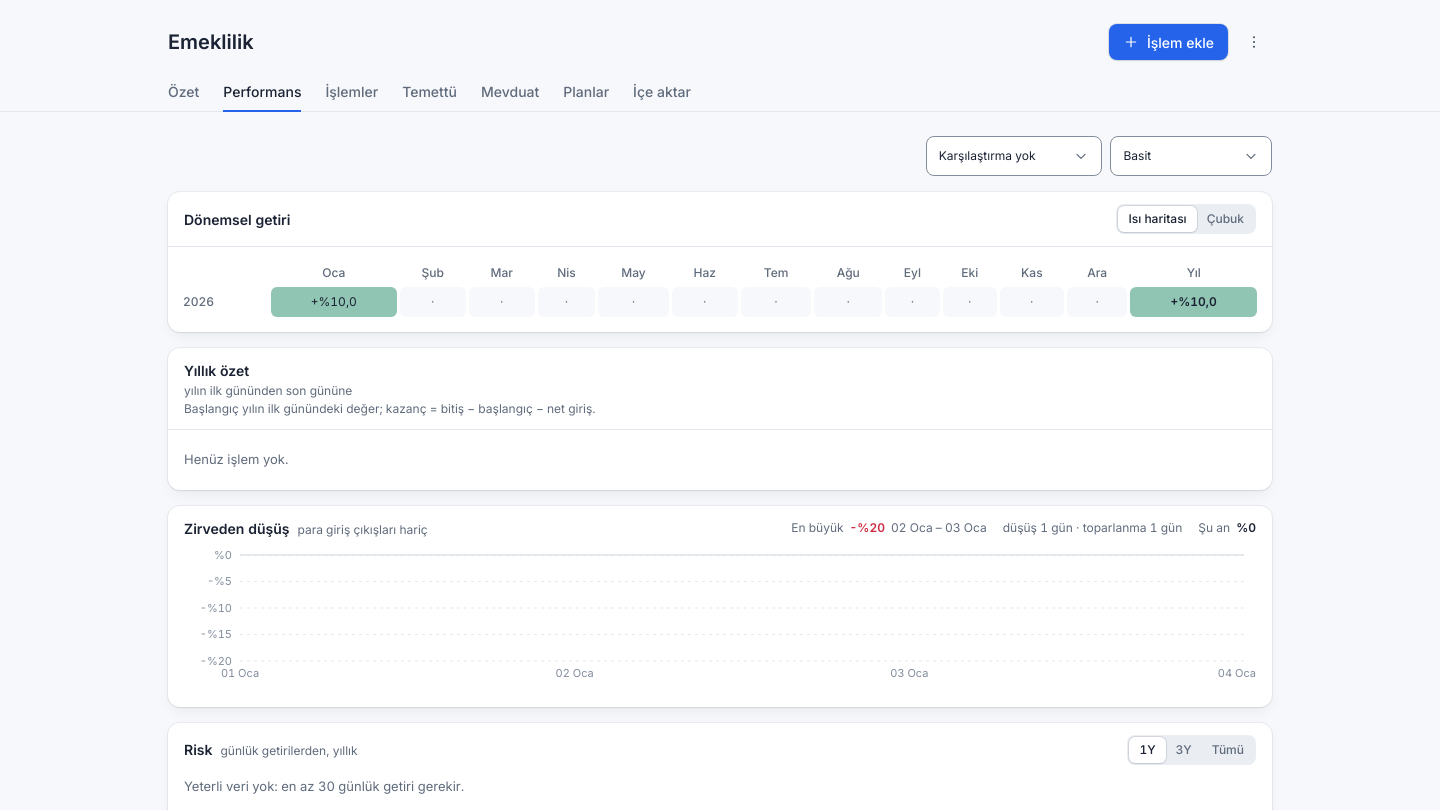
Scenario: shows the stored method and changes the numbers with it
Click the dropdown named "Getiri yöntemi": (1191, 156) [1110,136,1272,176]
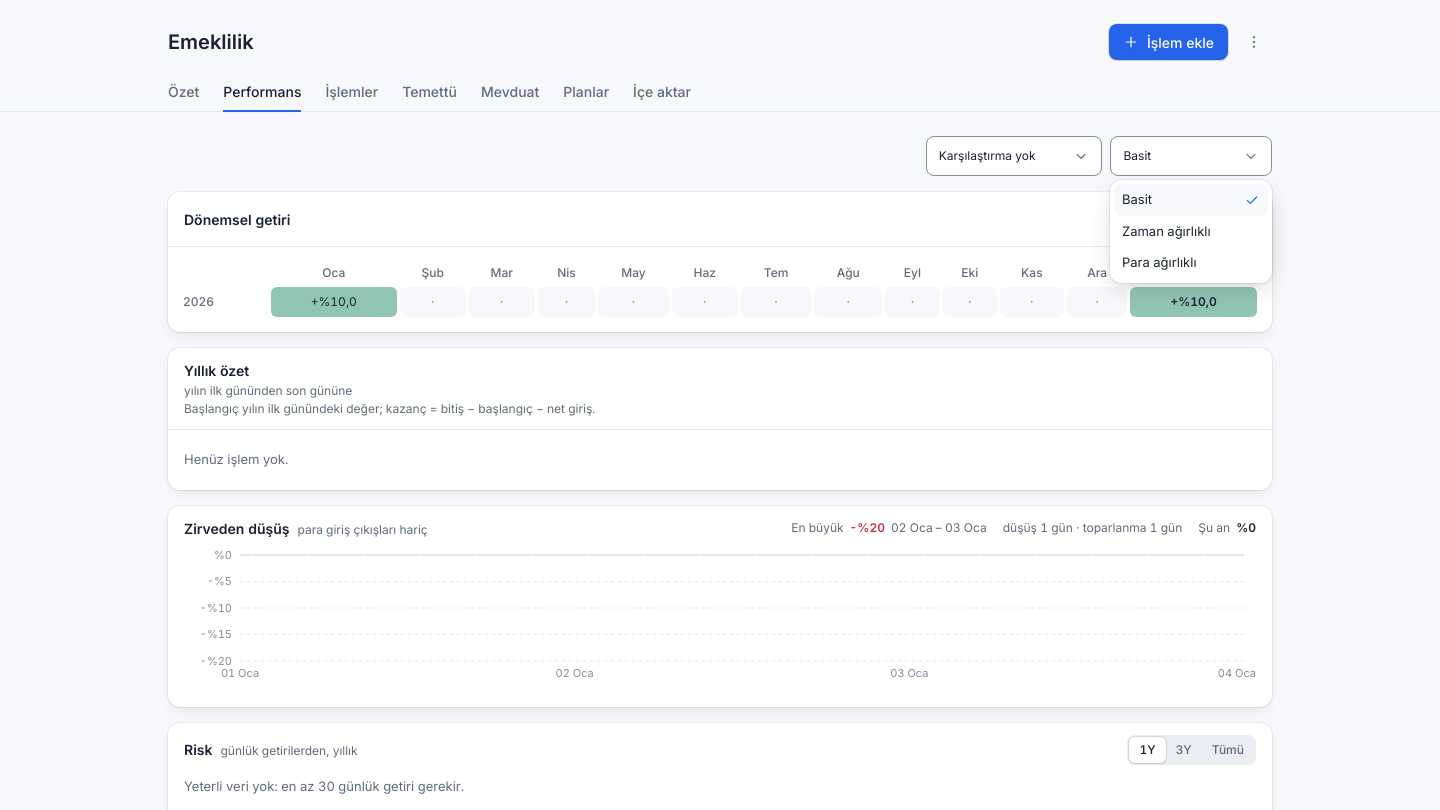
expect the list is shown: met, box [1114,184,1268,278]
Click the option "Zaman ağırlıklı": (1166, 230) [1122,222,1211,238]
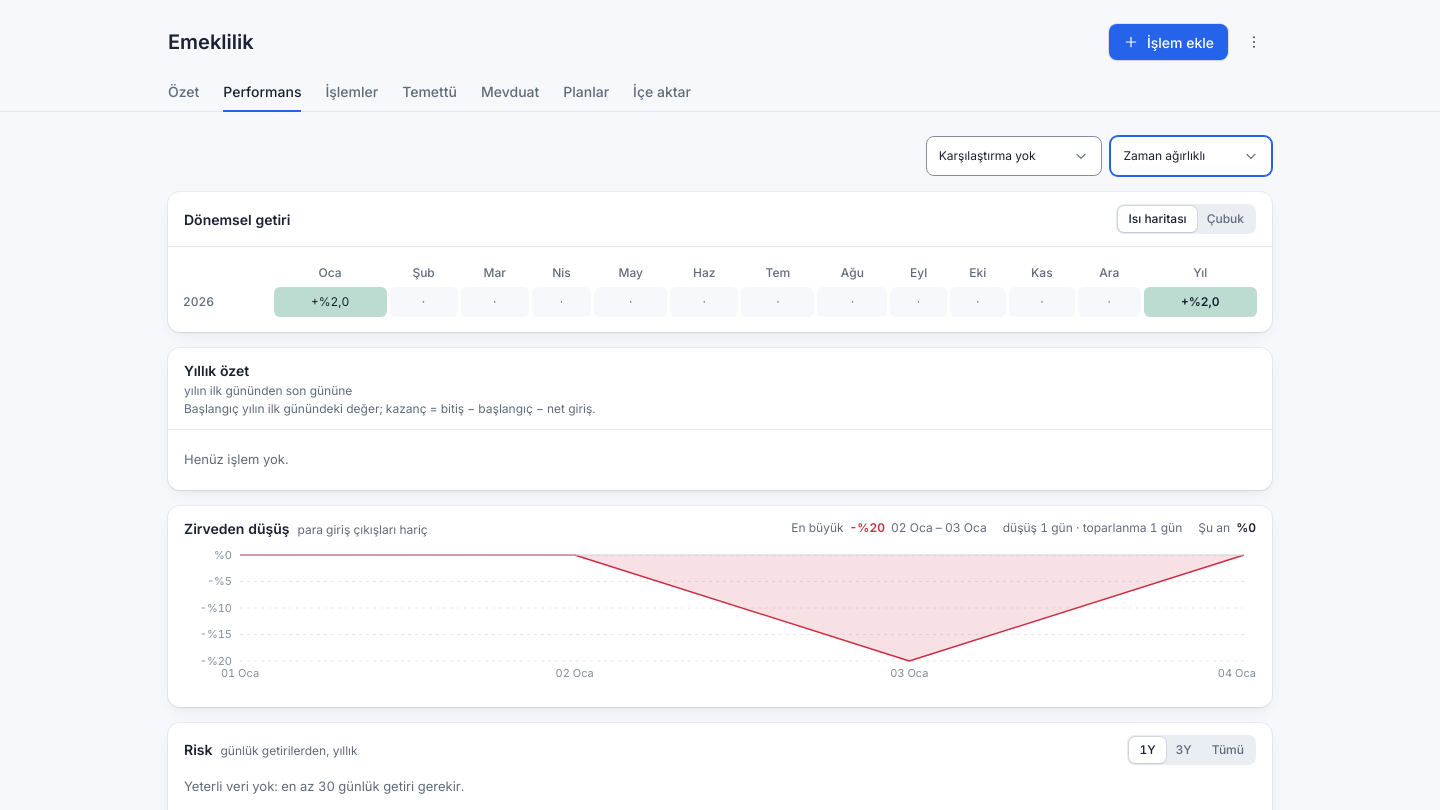
expect the list is gone: met
